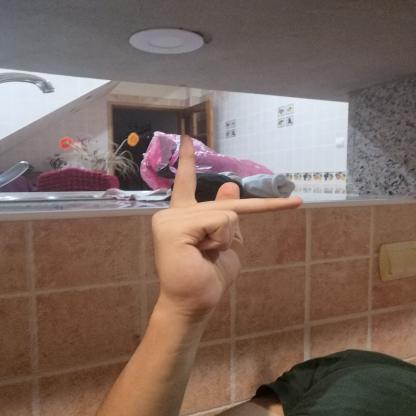DHAA: (135, 129, 319, 330)
